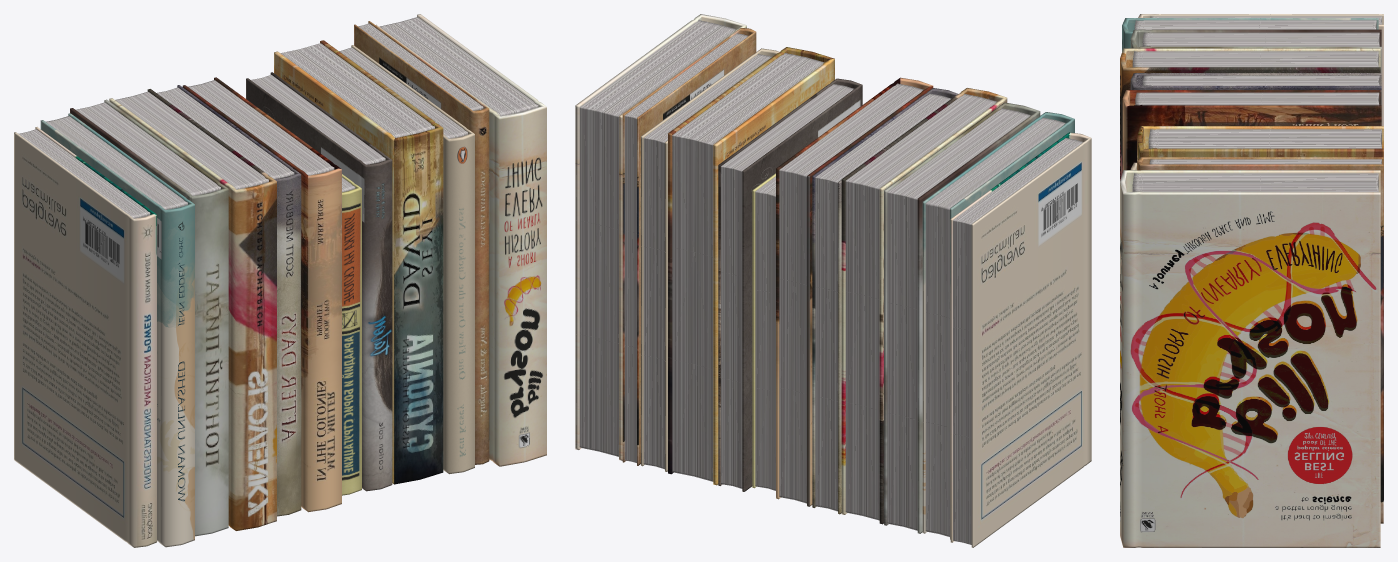
Rendered from bookpack_001_obj.obj.
3 views of the same model, side by side, from view 1: azimuth 30°, elevation 25°; view 2: azimuth 150°, elevation 25°; view 3: azimuth 270°, elevation 25° (orthographic). The views are drawn at different scales.
Parts seen in each view (by area): view 1: book001, book009, book012, book004, book006, book002, book003, book008, book010, book005, book011, book007; view 2: book001, book009, book012, book004, book003, book008, book006, book002, book005, book010, book011, book007; view 3: book012, book006, book009, book004, book003, book011, book005, book002, book001.
Part boxes in pixels (x1,y1,x2,y2): book001: (14,127,156,547); book009: (274,40,443,484); book012: (375,14,546,466); book004: (109,89,276,530); book006: (182,77,341,512); book002: (40,113,194,547); book003: (70,99,228,536); book008: (246,72,392,491); book010: (339,45,474,474); book005: (157,85,301,516); book011: (354,21,489,464); book007: (342,174,361,495); book001: (950,132,1091,547); book009: (668,47,834,485); book012: (575,14,746,460); book004: (841,88,1007,524); book003: (884,102,1040,533); book008: (718,78,862,491); book006: (776,77,933,506); book002: (922,112,1074,539); book005: (812,88,957,514); book010: (641,48,779,471); book011: (622,28,756,465); book007: (752,173,775,490); book012: (1120,170,1380,547); book006: (1122,90,1381,171); book009: (1137,126,1383,500); book004: (1120,48,1380,180); book003: (1130,29,1381,72); book011: (1137,157,1383,523); book005: (1130,73,1381,89); book002: (1122,18,1378,51); book001: (1138,14,1383,125).
Size of the model in its own units: 284 by 237 by 158.
